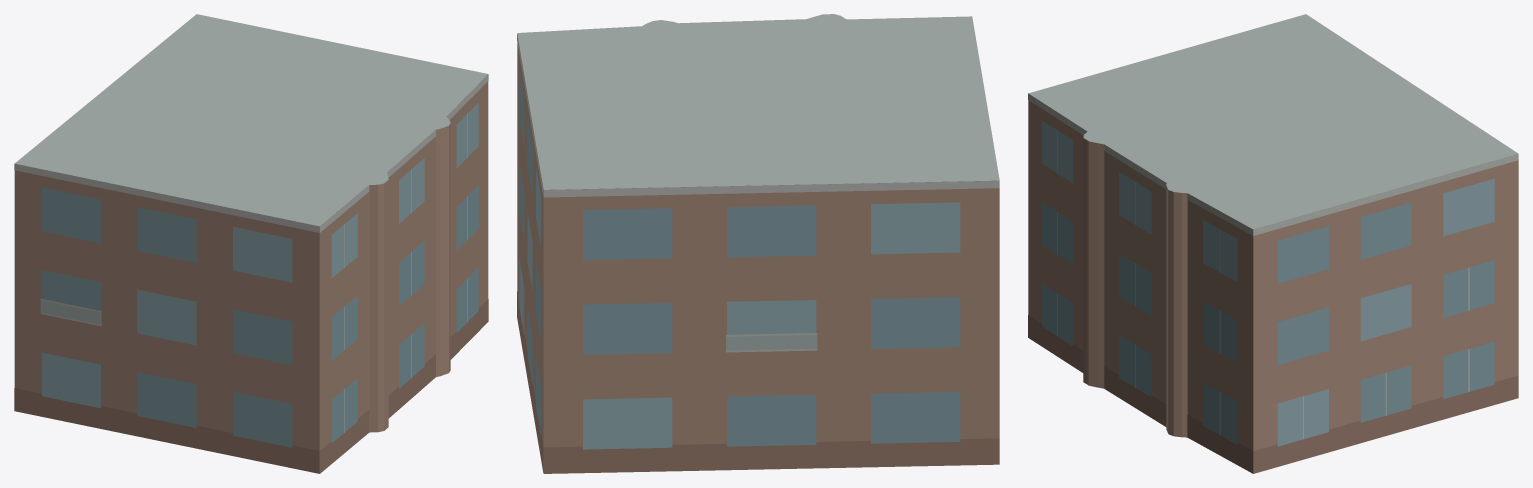
File: survey-upis-32888347.glb
3 renders of one model, left to right at view 1: azimuth 30°, elevation 25°; view 2: azimuth 150°, elevation 25°; view 3: azimuth 270°, elevation 25°, orthographic. The views are drawn at different scales.
Visible parts, largest first — view 1: survey-upis-32888347.tmp; view 2: survey-upis-32888347.tmp; view 3: survey-upis-32888347.tmp.
Part boxes in pixels (x1,y1,x2,y2): survey-upis-32888347.tmp: [14, 14, 488, 473]; survey-upis-32888347.tmp: [517, 14, 999, 473]; survey-upis-32888347.tmp: [1028, 14, 1518, 473].
Size of the model in its own units: 17.32 by 9.15 by 16.65.
